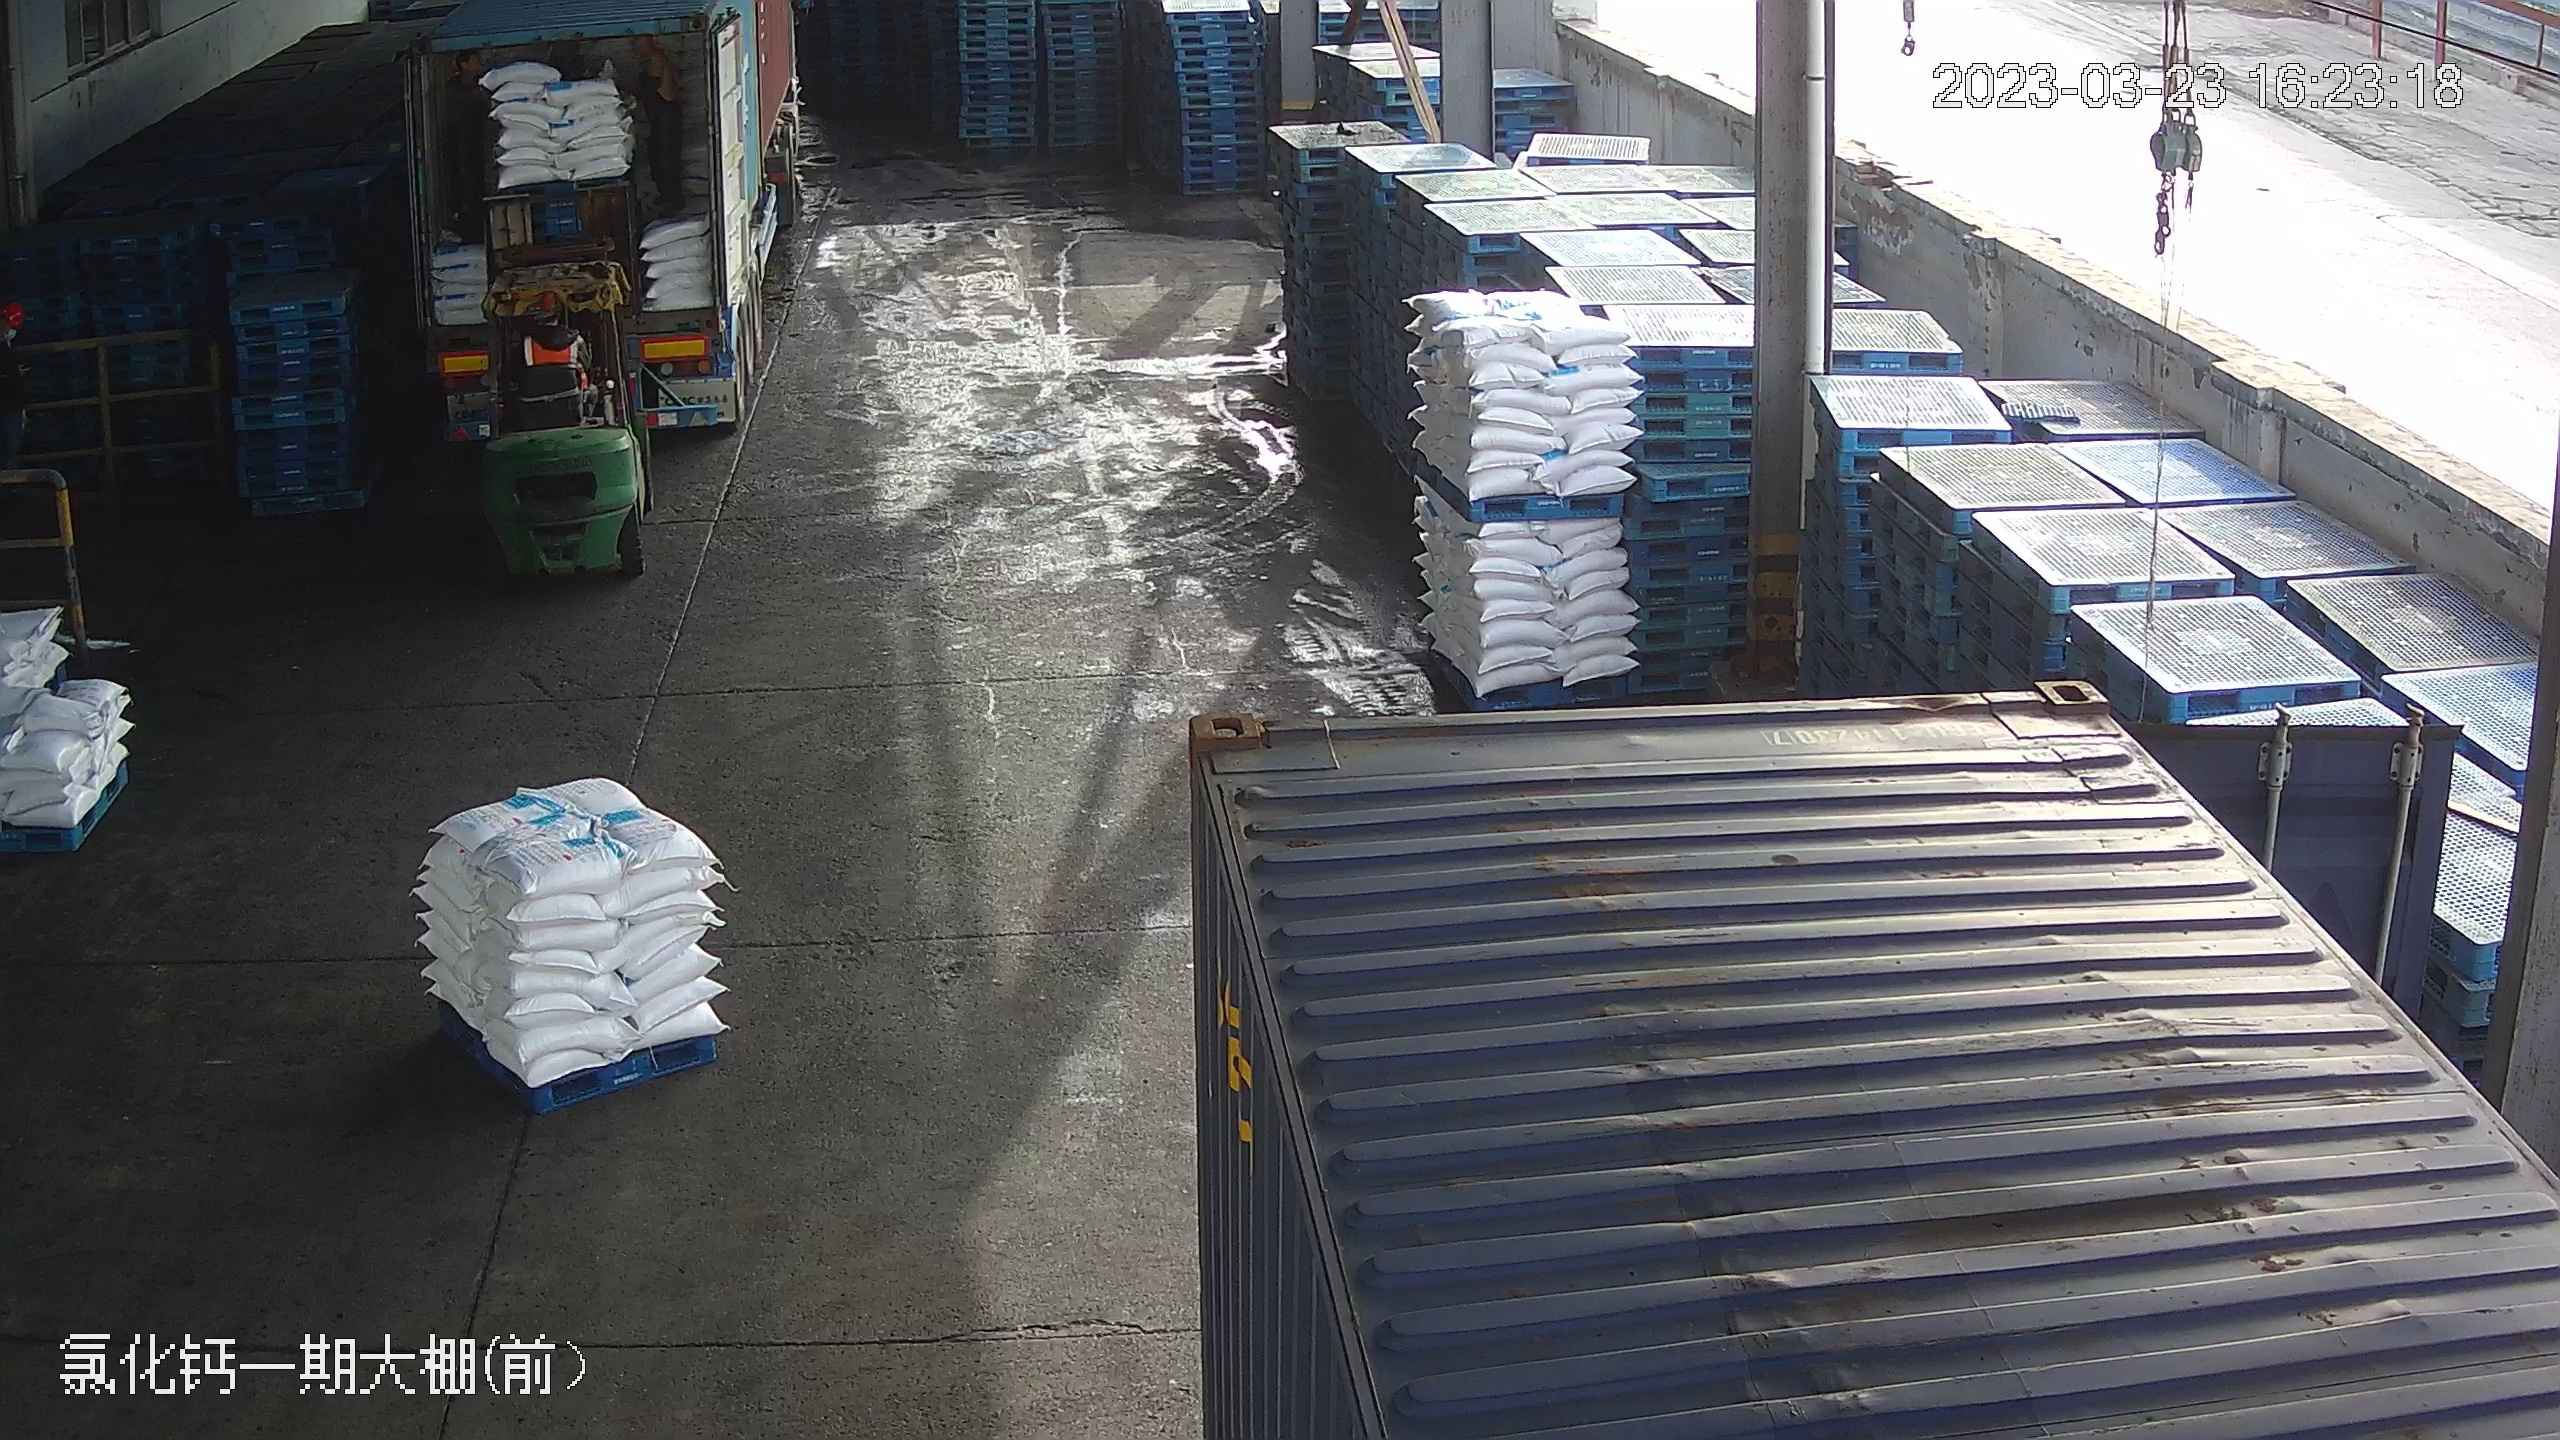head: (443, 49, 489, 115), (628, 35, 676, 96)
helmet: (2, 301, 25, 326)
people: (628, 33, 689, 219), (440, 48, 493, 233)
truck: (1166, 154, 2536, 1440), (403, 20, 813, 438)
